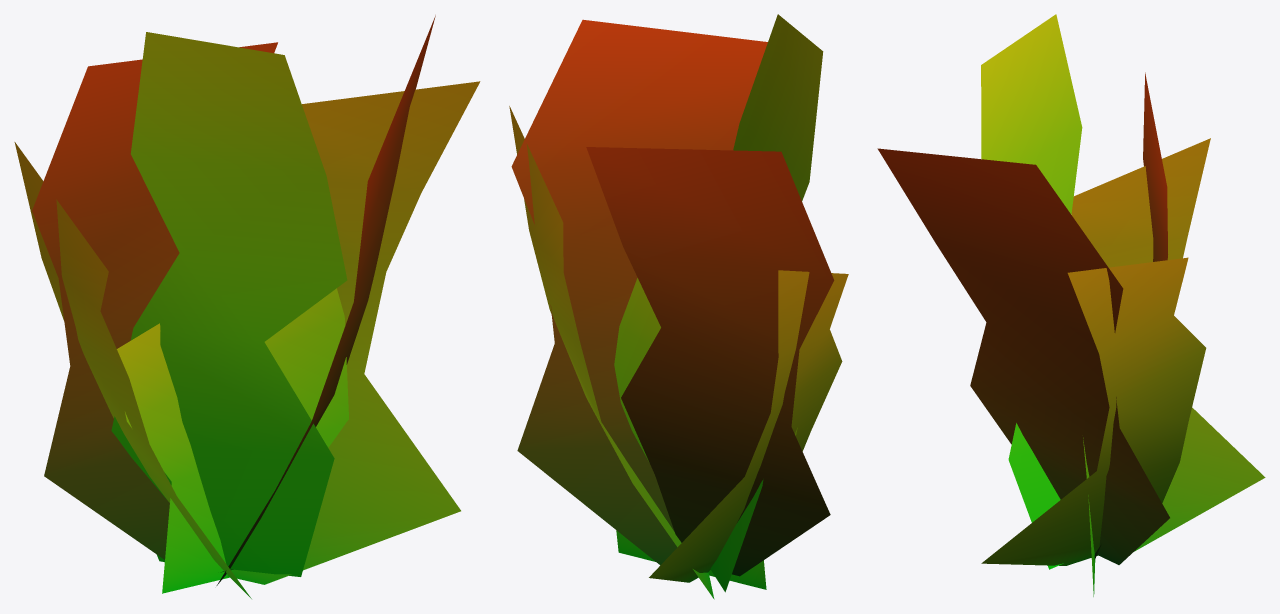
Rendered from Var8Hi22.fbx.
The picture shows the model from 3 angles, left to right: view 1: azimuth 30°, elevation 25°; view 2: azimuth 150°, elevation 25°; view 3: azimuth 270°, elevation 25°; orthographic projection. The views are drawn at different scales.
Visible parts, largest first — view 1: bend1; view 2: bend1; view 3: bend1.
Boxes of the visible parts, x1,y1,x2,y2 form: bend1: (14,15,480,598); bend1: (509,14,848,599); bend1: (877,14,1265,596).
Bounding box in the file's own units: 1.26 × 1.76 × 1.23.
